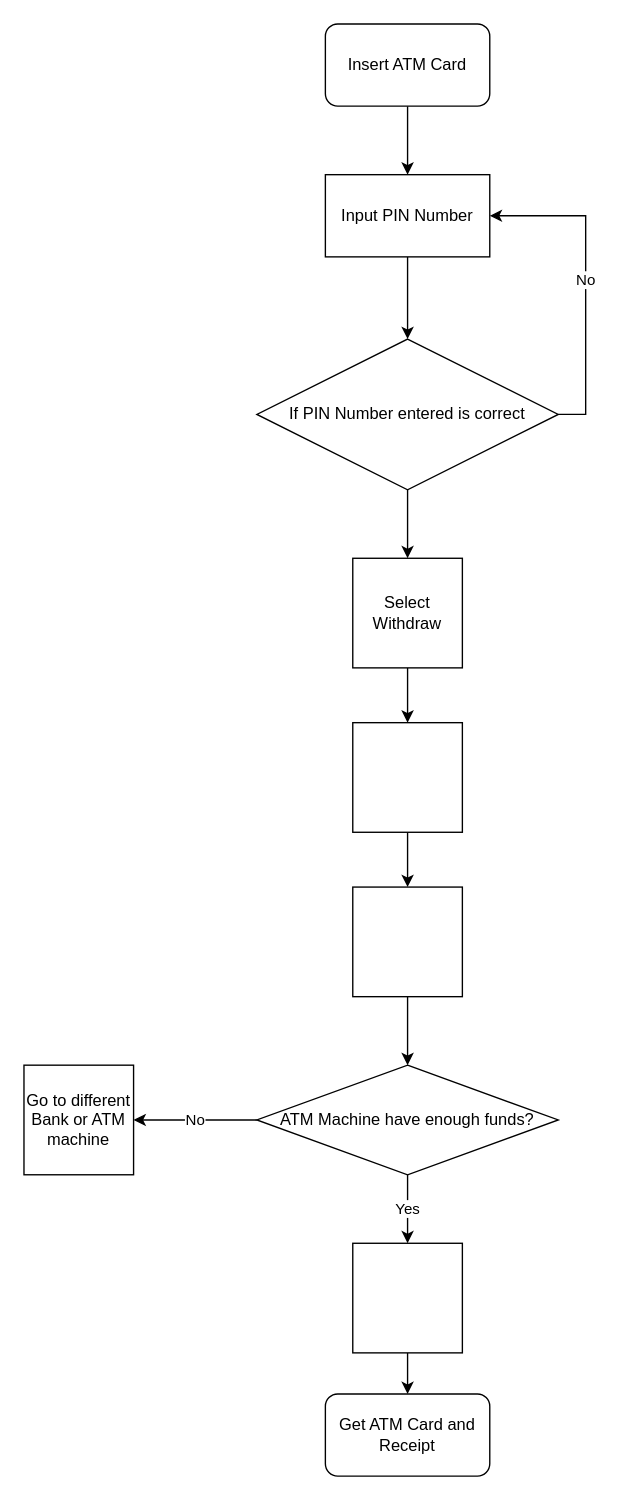
Image size: 621x1500. Some labels were removed from this diagram. The centre of each missing label's shape, as x and y in pixels:
"Get your money" goes at pixel 406 1297.
"Input Withdraw Amount($50)" goes at pixel 406 941.
"Select Chequing Account" goes at pixel 406 776.
